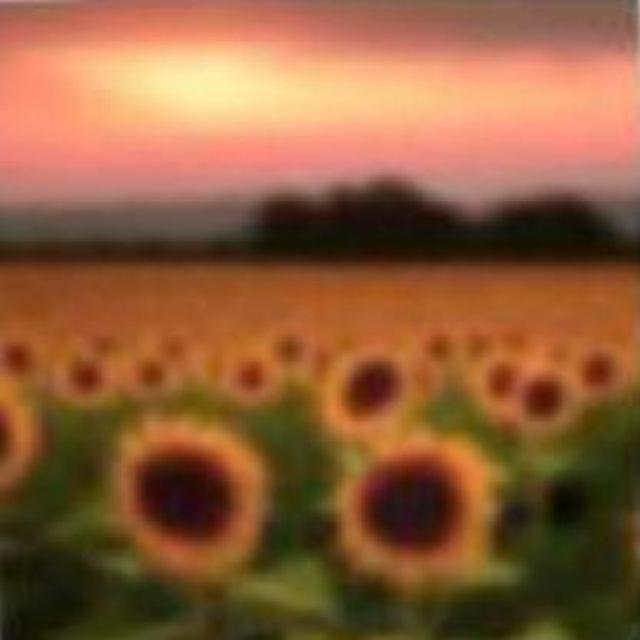sunflower: (101, 414, 278, 588), (324, 424, 496, 592), (320, 348, 420, 438)
